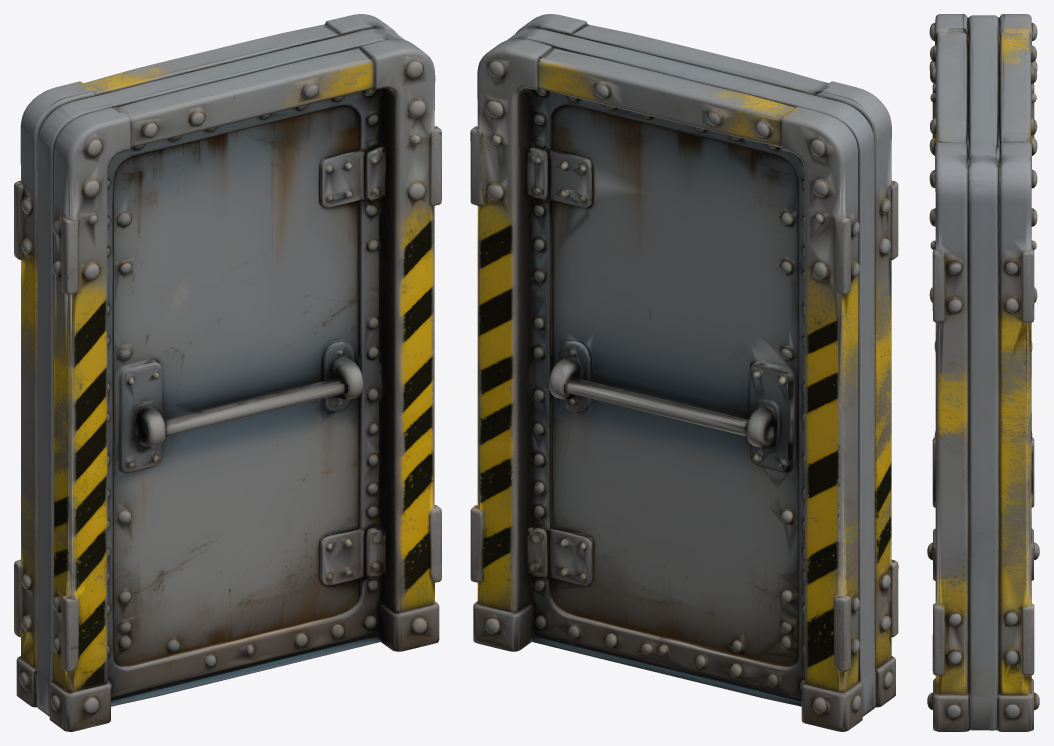
File: security_door.glb
3 views of the same model, side by side, from view 1: azimuth 30°, elevation 25°; view 2: azimuth 150°, elevation 25°; view 3: azimuth 270°, elevation 25° (orthographic). The views are drawn at different scales.
Parts seen in each view (by area): view 1: node_0; view 2: node_0; view 3: node_0.
Boxes of the visible parts, x1,y1,x2,y2 form: node_0: (14, 14, 441, 731); node_0: (470, 14, 898, 731); node_0: (927, 14, 1039, 731).
Size of the model in its own units: 0.6636 by 0.9979 by 0.1817.
Materials: 1 (1 with a texture image).
